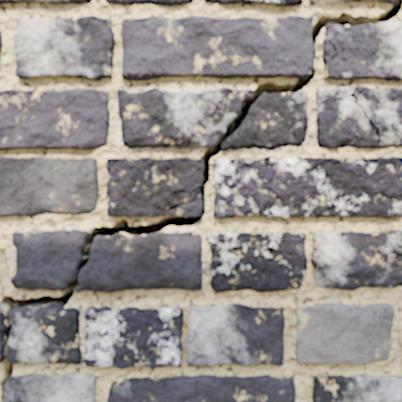brick: (122, 16, 312, 79), (213, 157, 401, 218), (0, 89, 109, 149), (14, 16, 114, 79), (83, 306, 182, 368), (187, 304, 283, 365), (296, 303, 393, 363), (209, 231, 306, 291), (0, 157, 98, 215), (107, 158, 202, 216), (311, 231, 401, 289), (316, 87, 401, 147), (108, 375, 294, 401), (323, 21, 401, 80), (3, 373, 95, 401), (313, 375, 401, 401), (206, 0, 301, 5), (0, 0, 90, 4), (106, 0, 192, 4), (310, 0, 401, 2), (325, 25, 337, 38), (0, 32, 1, 50)
broken_brick: (116, 87, 252, 148), (75, 231, 202, 293), (223, 89, 308, 151), (9, 228, 88, 291), (7, 307, 82, 364)
crack: (0, 2, 401, 399), (332, 86, 381, 145), (376, 241, 401, 270)
